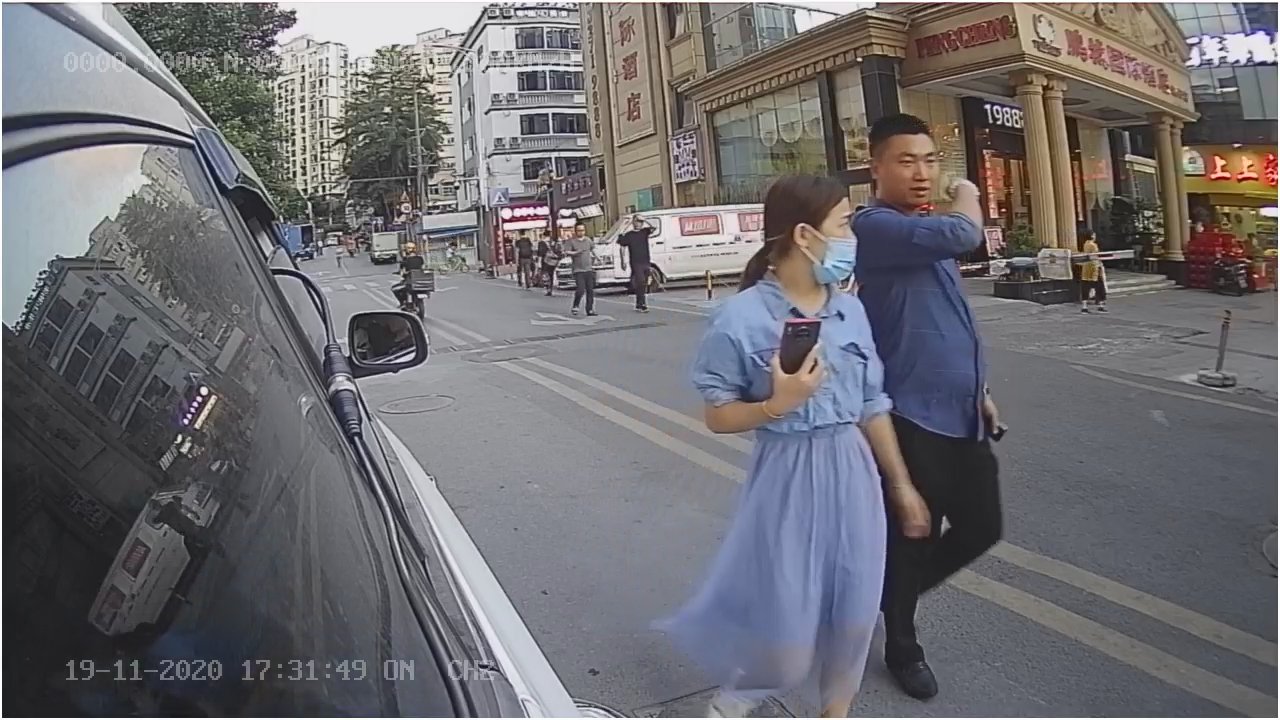person: (696, 175, 891, 634)
